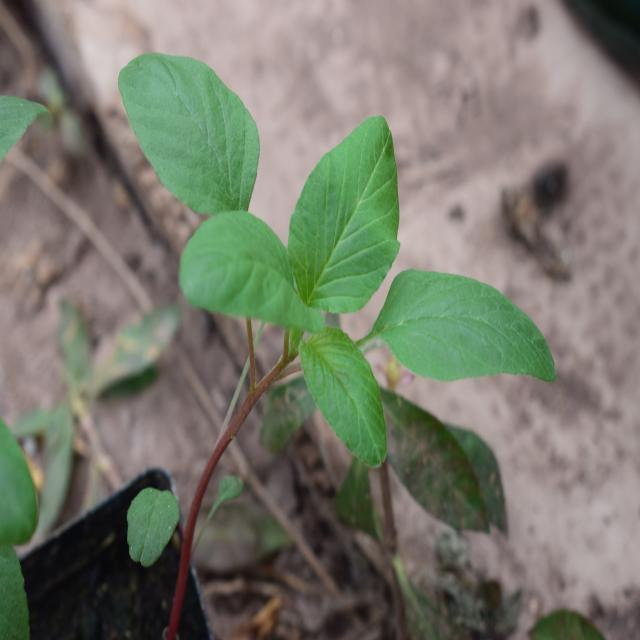pigweed: (109, 33, 556, 453)
